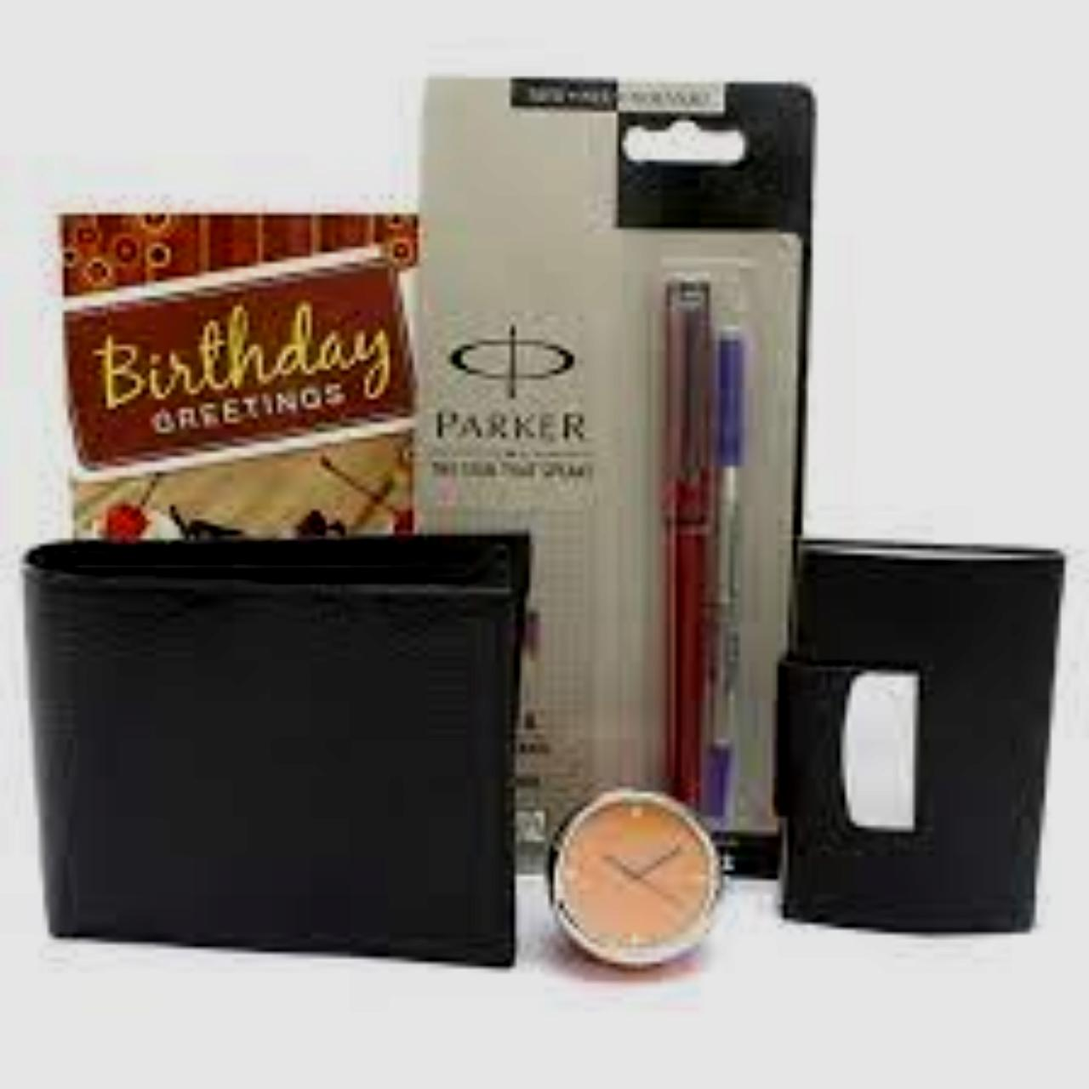wallet: (3, 501, 537, 962)
